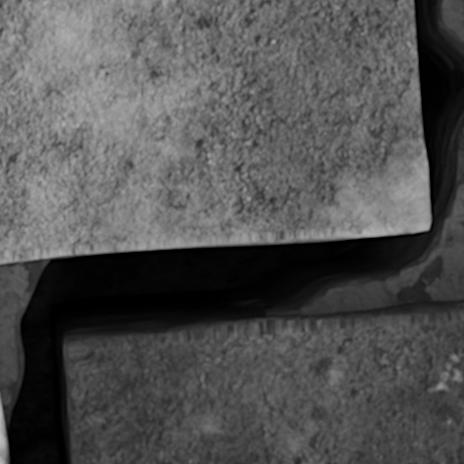brick: (0, 0, 429, 263), (65, 300, 463, 463), (0, 400, 8, 463)
crack: (1, 0, 463, 463)
